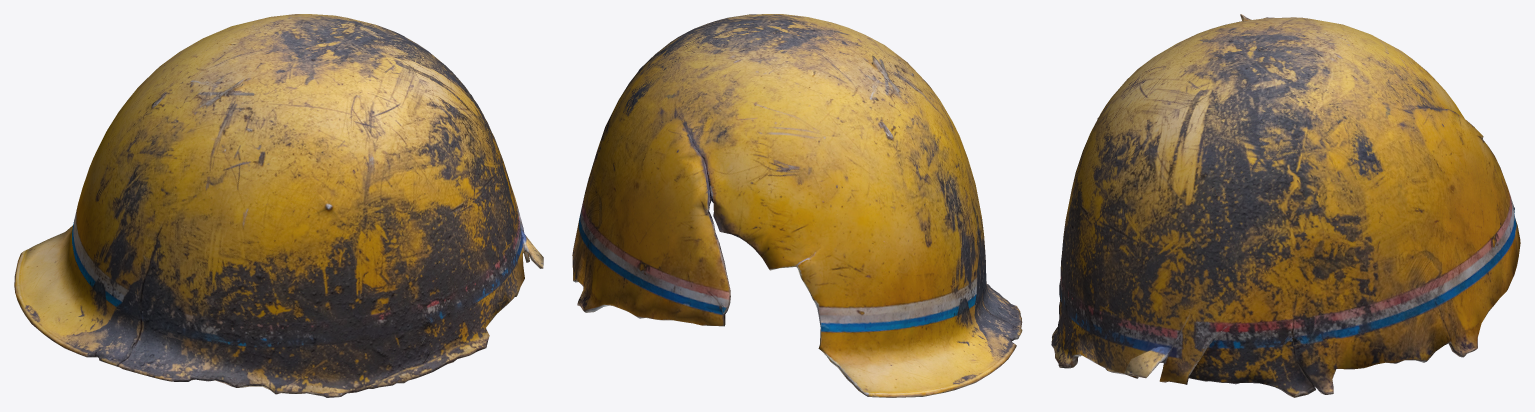
File: hard_hat.glb
3 views of the same model, side by side, from view 1: azimuth 30°, elevation 25°; view 2: azimuth 150°, elevation 25°; view 3: azimuth 270°, elevation 25° (orthographic). The views are drawn at different scales.
Visible parts, largest first — view 1: model.001di.001_6; view 2: model.001di.001_6; view 3: model.001di.001_6.
Boxes of the visible parts, box(x1,y1,x2,y2) form: model.001di.001_6: box(14, 14, 543, 397); model.001di.001_6: box(572, 14, 1022, 397); model.001di.001_6: box(1051, 14, 1520, 397).
Bounding box in the file's own units: 0.3787 × 0.2387 × 0.3382.
1 material, 1 textured.
